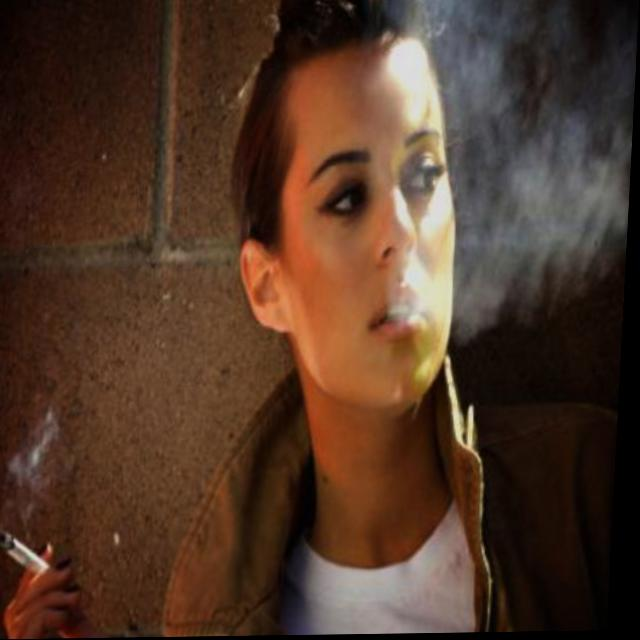cigarette: (0, 522, 57, 583)
